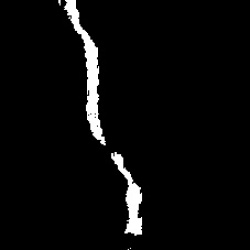crack: (57, 2, 110, 147), (112, 152, 146, 238)
